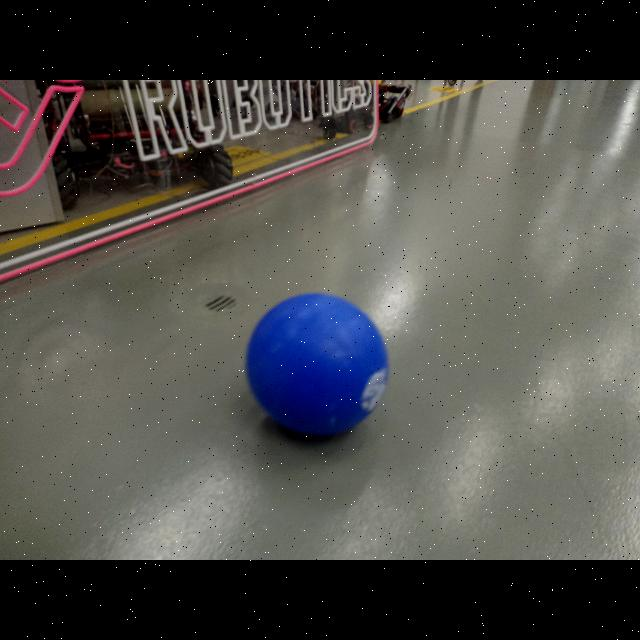B: (240, 290, 394, 442)
